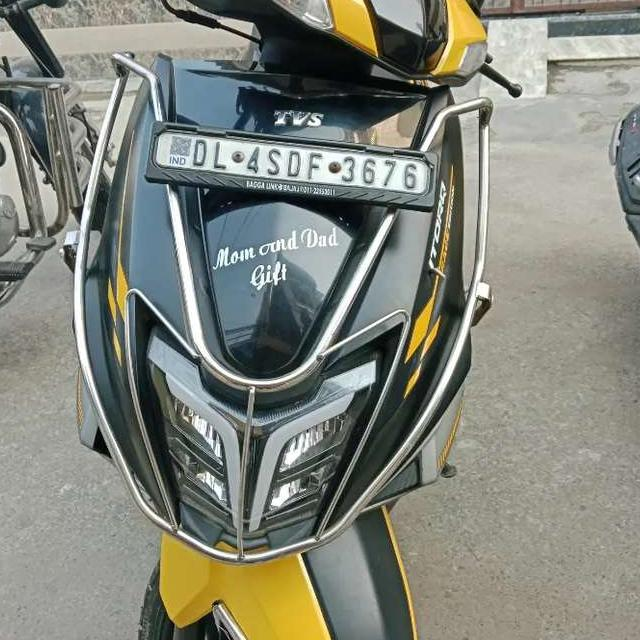Indian_Number_Plate: (150, 118, 435, 204)
